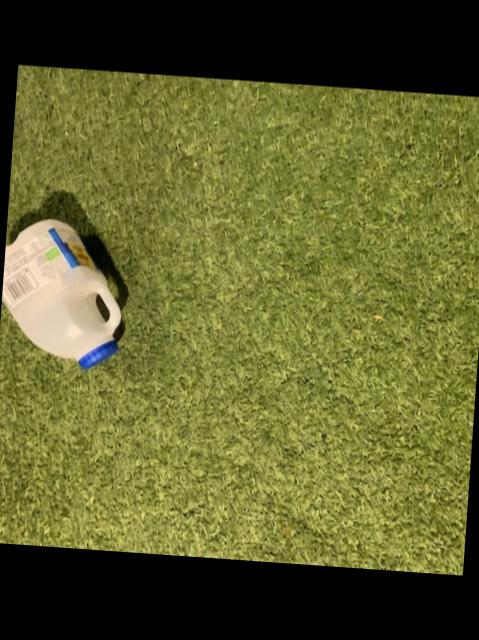plastic: (1, 218, 121, 367)
